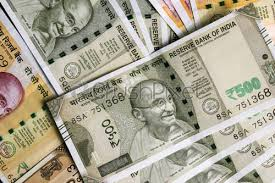fiveHundred: (87, 71, 265, 155)
